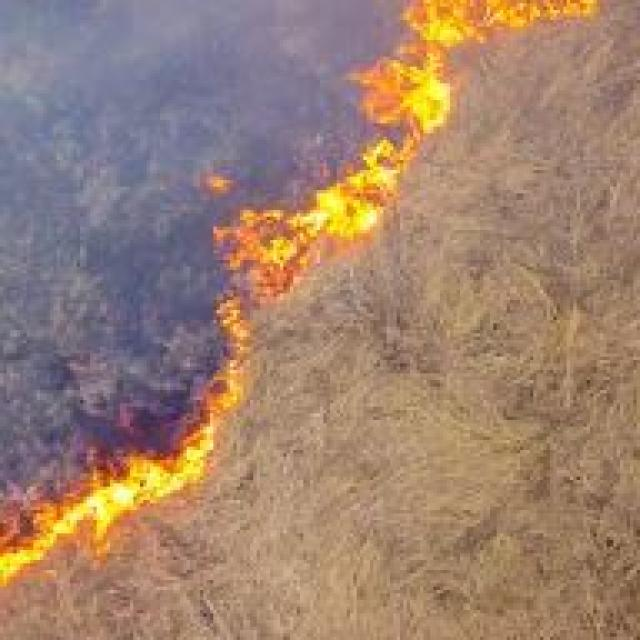Fire: (0, 416, 234, 588), (206, 150, 415, 292), (390, 2, 607, 51), (368, 55, 466, 133), (212, 300, 257, 432)
Smoke: (0, 23, 286, 230)
